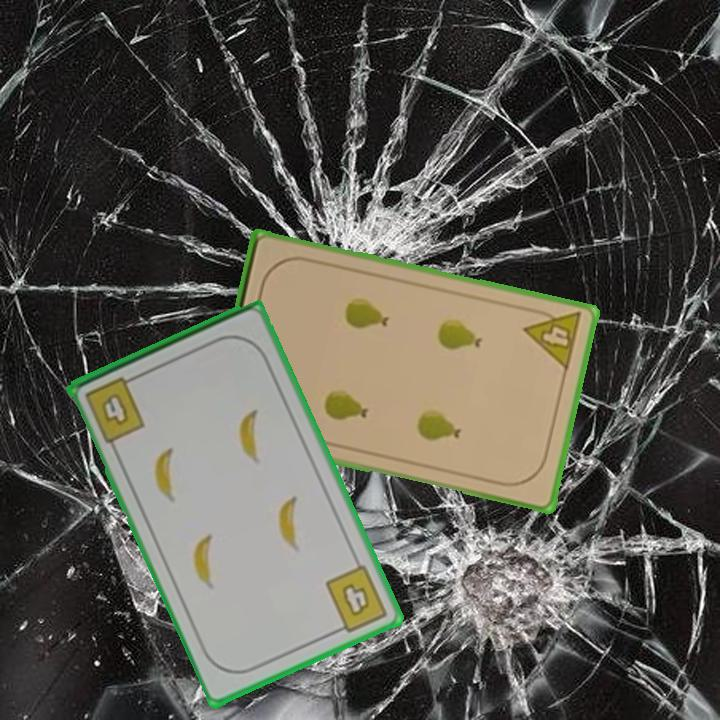4b: (322, 561, 391, 638), (81, 372, 149, 446)
4p: (520, 303, 584, 373)
